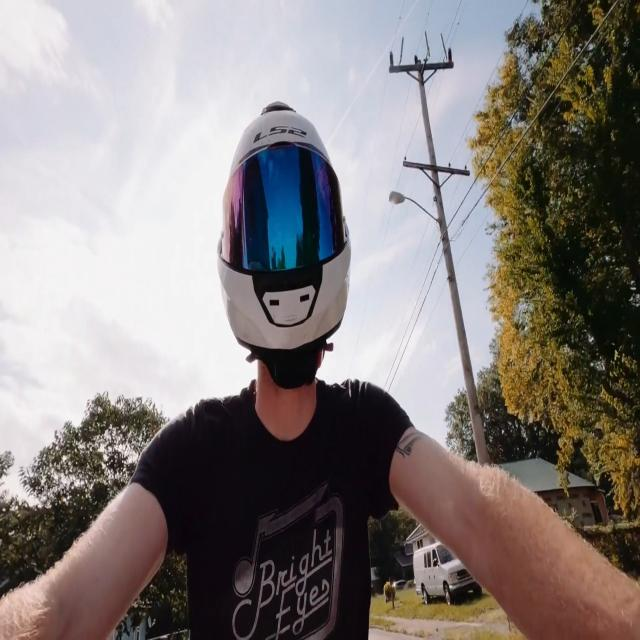Helmet_Wearer: (208, 98, 352, 435)
Person: (1, 101, 640, 640)
